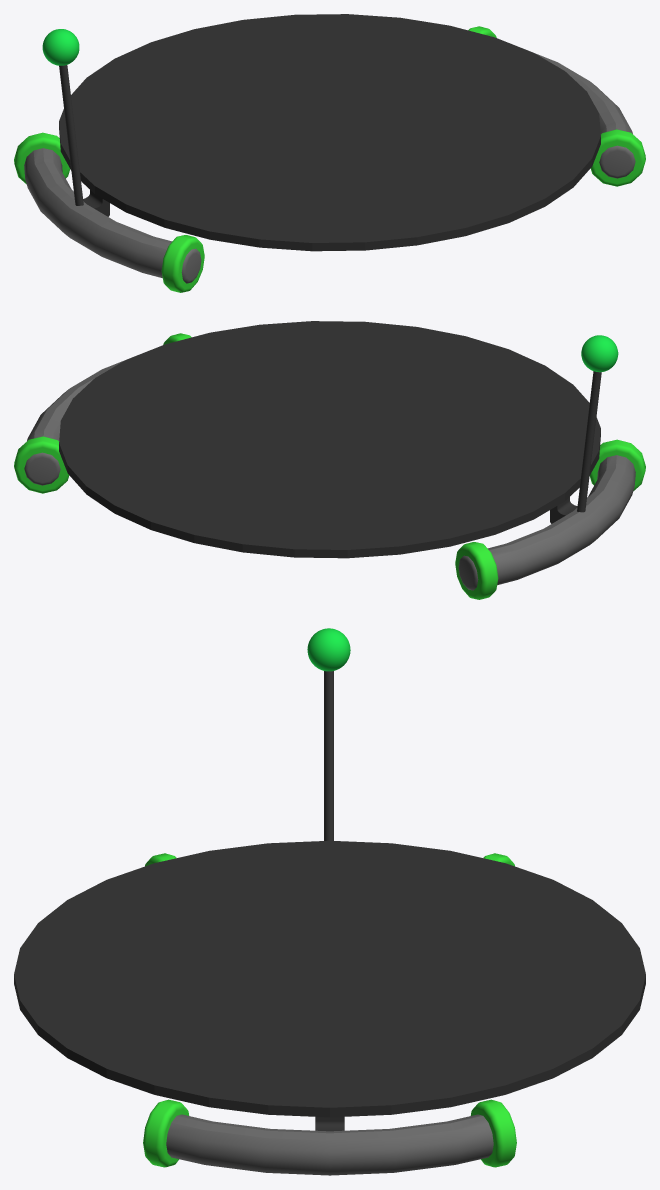
The model's file is hole_Model3.fbx.
The picture shows the model from 3 angles, top to bottom: view 1: azimuth 30°, elevation 25°; view 2: azimuth 150°, elevation 25°; view 3: azimuth 270°, elevation 25°; orthographic projection. The views are drawn at different scales.
Parts seen in each view (by area): view 1: Cylinder, ayaklar, teker, anten; view 2: Cylinder, ayaklar, teker, anten; view 3: Cylinder, ayaklar, teker, anten.
Boxes of the visible parts, box(x1,y1,x2,y2) form: Cylinder: box(59, 14, 600, 251); ayaklar: box(24, 53, 635, 283); teker: box(14, 26, 645, 292); anten: box(42, 29, 83, 205); Cylinder: box(59, 321, 600, 558); ayaklar: box(24, 360, 635, 590); teker: box(14, 333, 645, 599); anten: box(577, 335, 618, 512); Cylinder: box(14, 840, 645, 1117); ayaklar: box(166, 1114, 493, 1175); teker: box(143, 853, 516, 1167); anten: box(307, 628, 350, 840).
Size of the model in its own units: 65.4 by 24.97 by 55.56.
